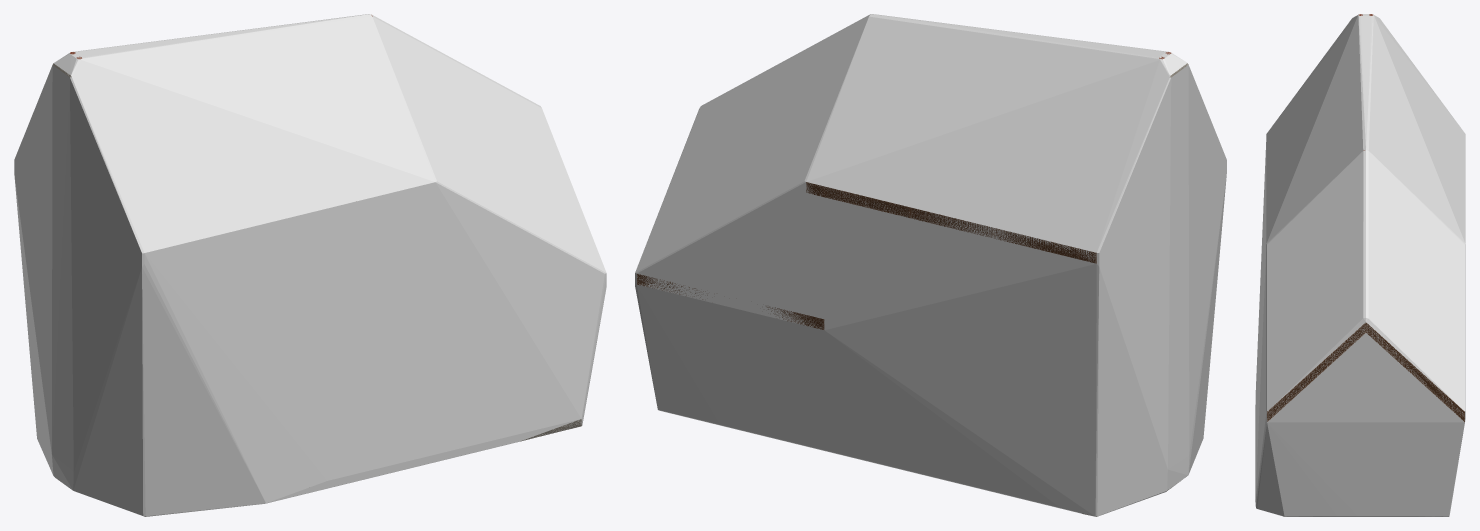
Rendered from house_workshop.glb.
3 renders of one model, left to right at view 1: azimuth 30°, elevation 25°; view 2: azimuth 150°, elevation 25°; view 3: azimuth 270°, elevation 25°, orthographic. The views are drawn at different scales.
Visible parts, largest first — view 1: COL_house_workshop_static_00; view 2: COL_house_workshop_static_00, house_workshop_static; view 3: COL_house_workshop_static_00, house_workshop_static.
Boxes of the visible parts, x1=… form: COL_house_workshop_static_00: x1=14, y1=14, x2=606, y2=516; COL_house_workshop_static_00: x1=635, y1=14, x2=1226, y2=516; house_workshop_static: x1=637, y1=52, x2=1188, y2=516; COL_house_workshop_static_00: x1=1255, y1=14, x2=1465, y2=516; house_workshop_static: x1=1267, y1=14, x2=1464, y2=516.
Bounding box in the file's own units: 11.36 × 9.62 × 5.54.
Materials: 7 (7 with a texture image).
